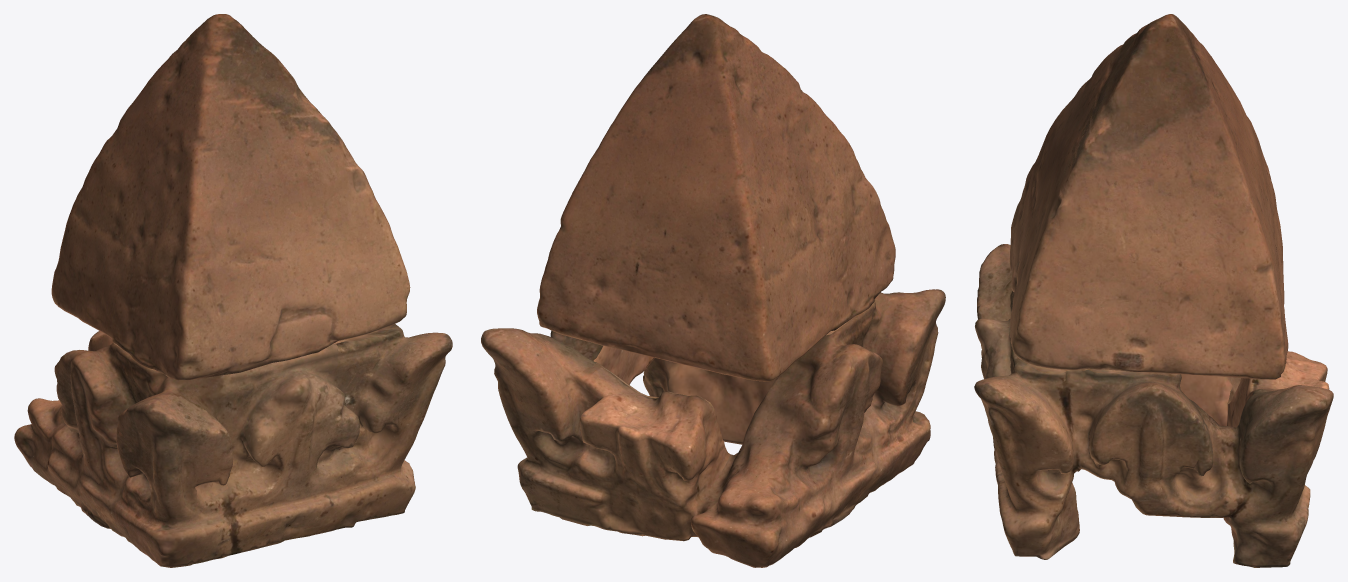
Rendered from MuseumMyson_dinhchopnhon_final.glb.
3 renders of one model, left to right at view 1: azimuth 30°, elevation 25°; view 2: azimuth 150°, elevation 25°; view 3: azimuth 270°, elevation 25°, orthographic. The views are drawn at different scales.
Bounding box in the file's own units: 0.3029 × 0.4416 × 0.2919.
1 material, 1 textured.
